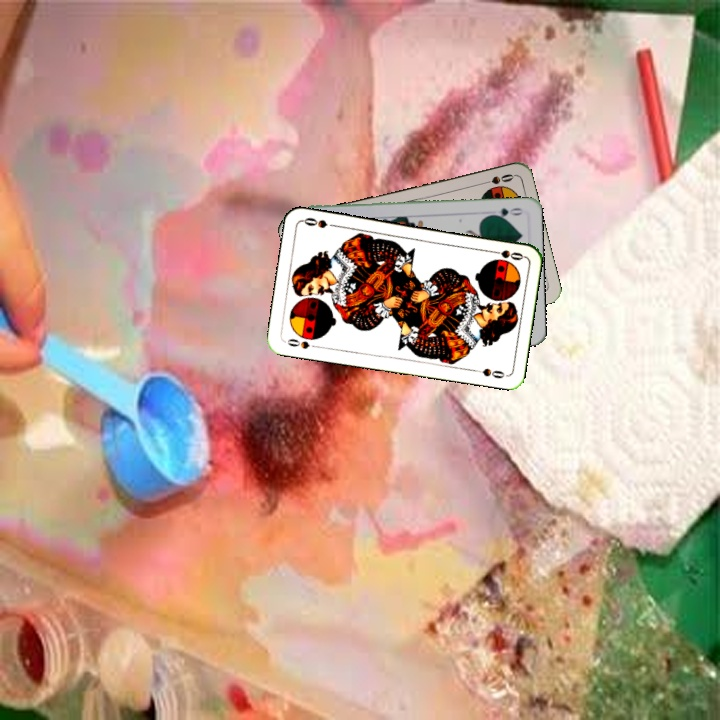GO: (485, 204, 526, 221)
SO: (476, 170, 516, 187), (486, 246, 526, 263), (283, 334, 322, 351)
